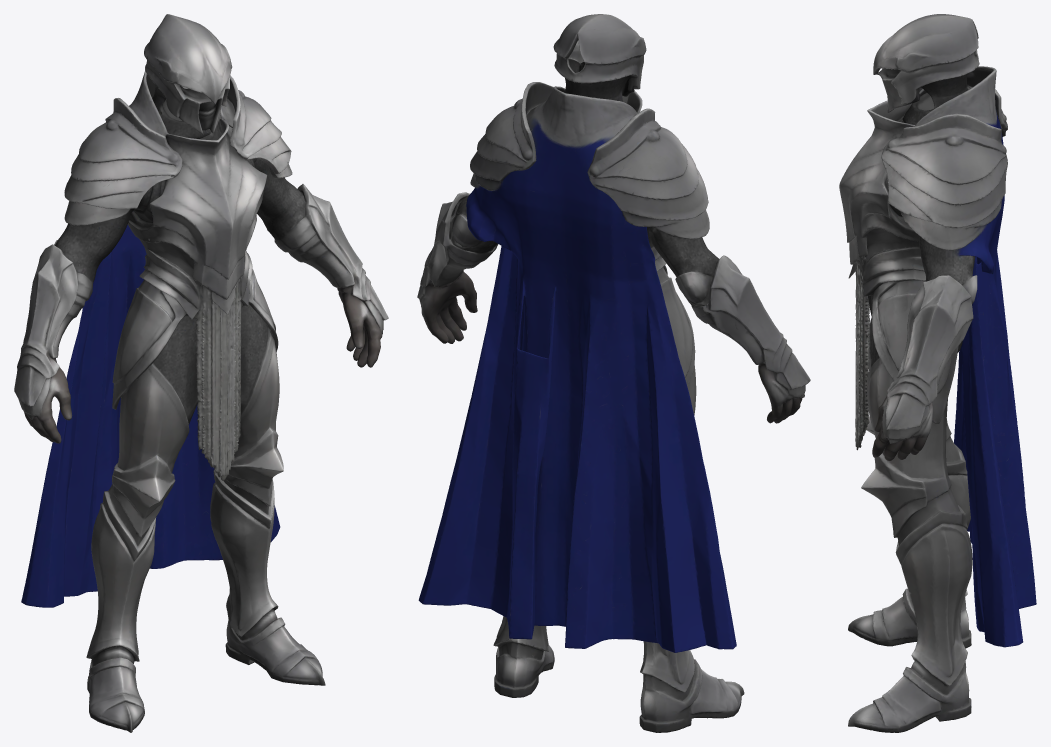
Rendered from raptor_knight(cape).glb.
3 renders of one model, left to right at view 1: azimuth 30°, elevation 25°; view 2: azimuth 150°, elevation 25°; view 3: azimuth 270°, elevation 25°, orthographic. The views are drawn at different scales.
Visible parts, largest first — view 1: world; view 2: world; view 3: world.
Boxes of the visible parts, x1,y1,x2,y2 form: world: [14, 14, 388, 732]; world: [417, 14, 810, 732]; world: [839, 14, 1036, 732].
Bounding box in the file's own units: 0.5796 × 0.9963 × 0.2687.
1 material, 1 textured.
